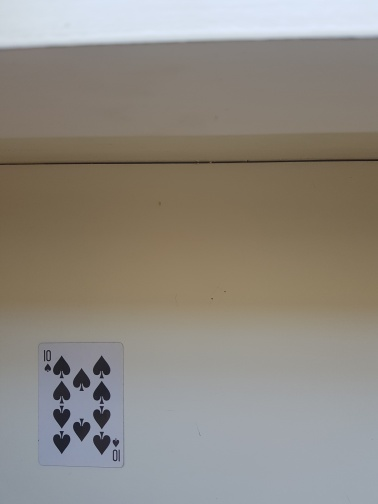ten: (35, 341, 125, 469)
